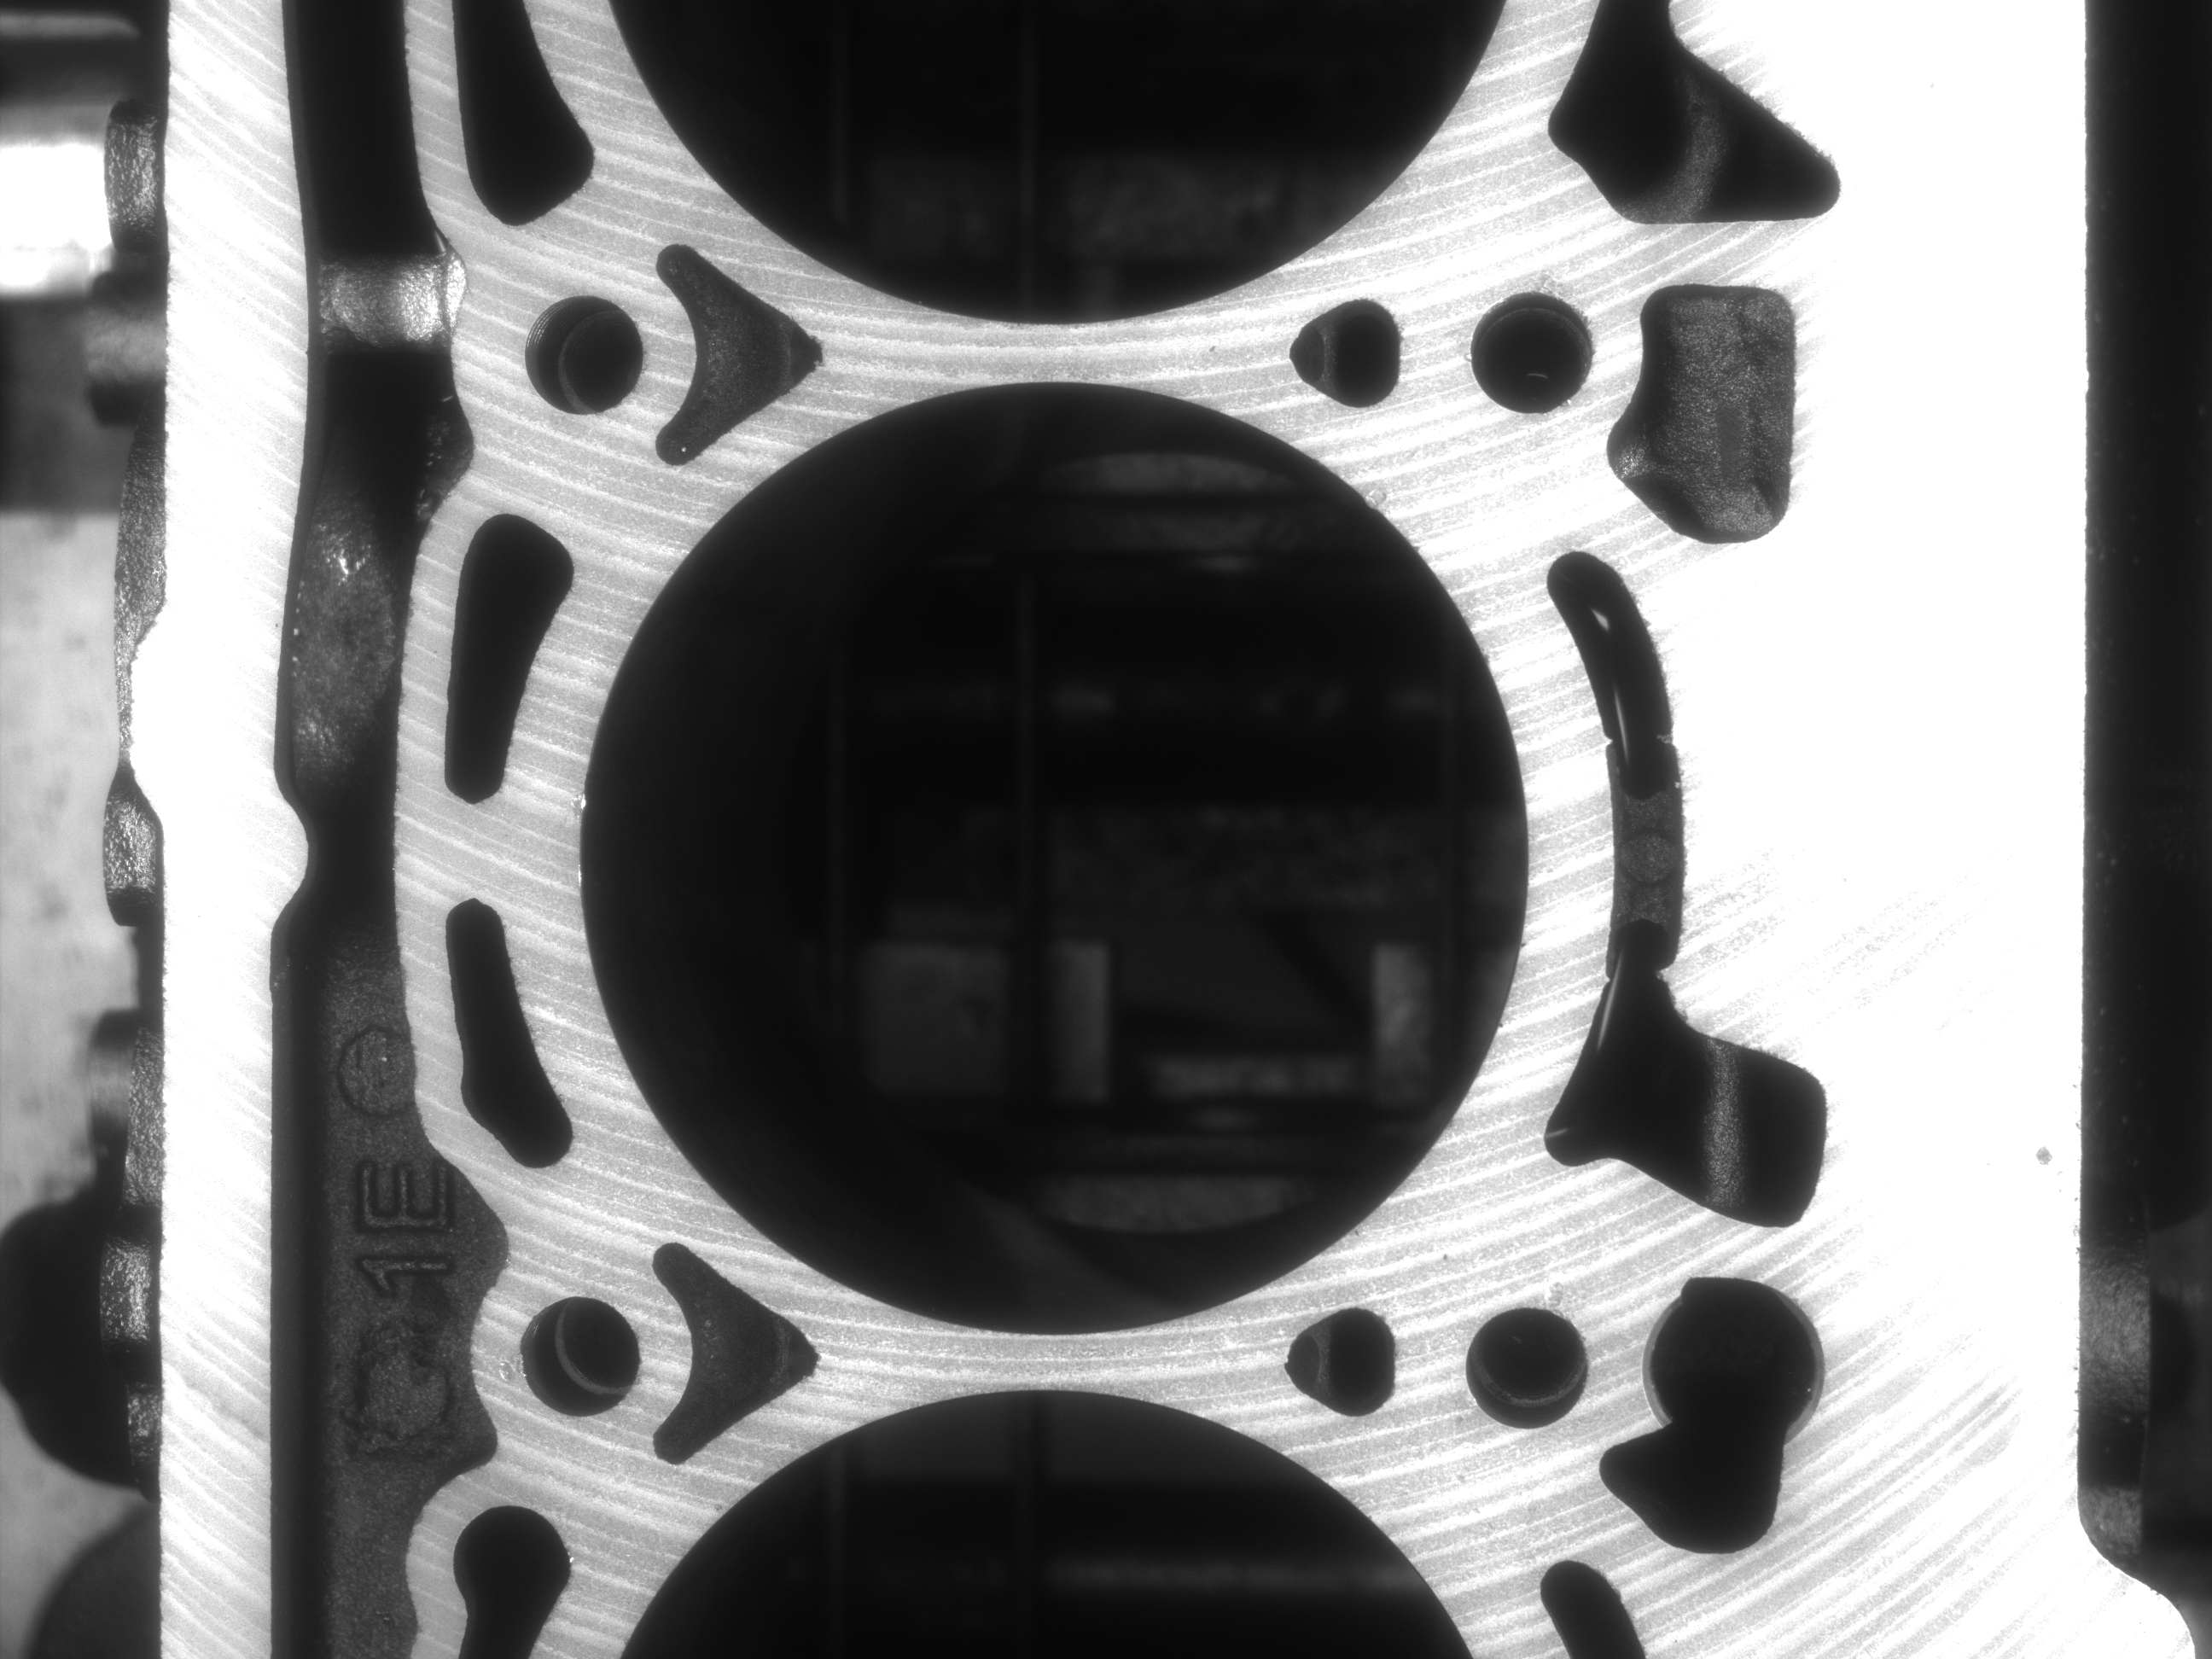shrinkage: (1541, 1269, 1578, 1314), (1360, 477, 1392, 505)
